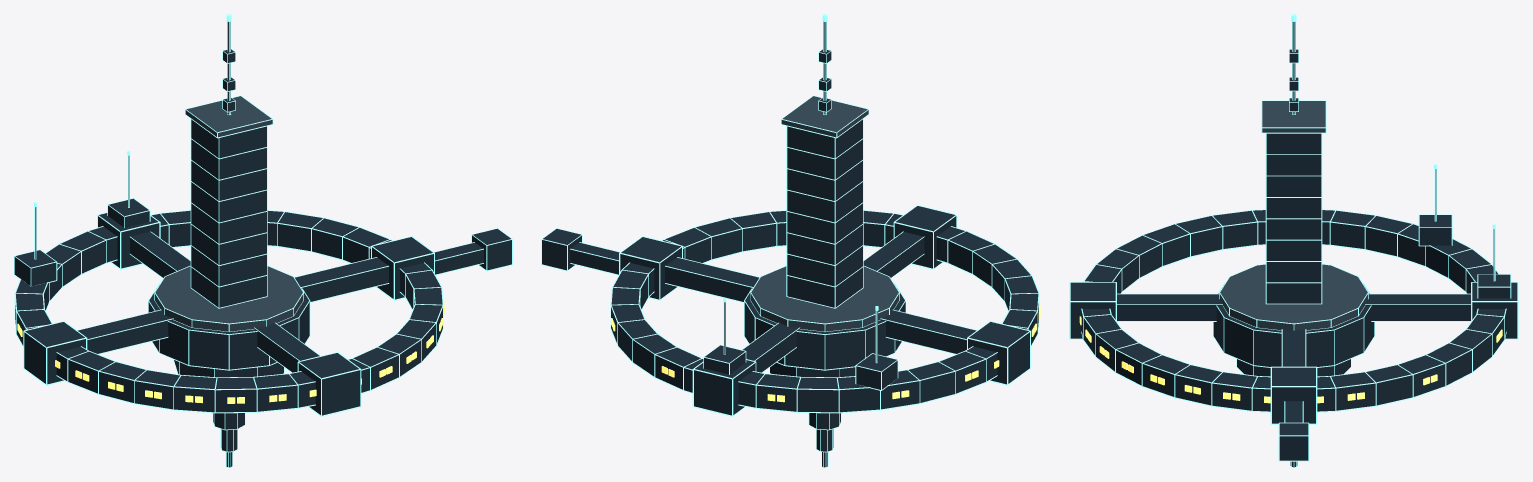
Rendered from blue_ring_station.glb.
The picture shows the model from 3 angles, left to right: view 1: azimuth 30°, elevation 25°; view 2: azimuth 150°, elevation 25°; view 3: azimuth 270°, elevation 25°; orthographic projection.
Parts seen in each view (by area): view 1: Blue station | segmented orbital ring, BlueRingStation_ROOT | blue physical edge accents, Blue station | upper hub deck, Blue station | octagonal hub, Blue station | ring junction.003, Blue station | radial spoke, Blue station | radial spoke.002, Blue station | ring junction.002, Blue station | tower roof, Blue station | ring junction, Blue station | tower floor.004, Blue station | radial spoke.001 (+14 smaller); view 2: Blue station | segmented orbital ring, BlueRingStation_ROOT | blue physical edge accents, Blue station | upper hub deck, Blue station | octagonal hub, Blue station | radial spoke, Blue station | radial spoke.002, Blue station | ring junction.002, Blue station | ring junction.001, Blue station | tower roof, Blue station | ring junction.003, Blue station | ring junction, Blue station | radial spoke.003 (+14 smaller); view 3: Blue station | segmented orbital ring, BlueRingStation_ROOT | blue physical edge accents, Blue station | upper hub deck, Blue station | octagonal hub, Blue station | radial spoke.001, Blue station | radial spoke.003, Blue station | ring junction, Blue station | tower roof, Blue station | ring junction.003, Blue station | tower floor.007, Blue station | tower floor, Blue station | tower floor.003 (+11 smaller).
Boxes of the visible parts, x1,y1,x2,y2 form: Blue station | segmented orbital ring: (15, 210, 442, 412); BlueRingStation_ROOT | blue physical edge accents: (14, 21, 512, 467); Blue station | upper hub deck: (155, 266, 303, 331); Blue station | octagonal hub: (148, 292, 309, 369); Blue station | ring junction.003: (298, 353, 360, 415); Blue station | radial spoke: (295, 257, 388, 301); Blue station | radial spoke.002: (78, 310, 173, 353); Blue station | ring junction.002: (24, 322, 85, 384); Blue station | tower roof: (185, 96, 272, 137); Blue station | ring junction: (372, 237, 433, 299); Blue station | tower floor.004: (191, 182, 266, 222); Blue station | radial spoke.001: (130, 232, 190, 277); Blue station | segmented orbital ring: (611, 210, 1038, 412); BlueRingStation_ROOT | blue physical edge accents: (541, 21, 1039, 467); Blue station | upper hub deck: (750, 266, 899, 331); Blue station | octagonal hub: (744, 292, 905, 369); Blue station | radial spoke: (665, 257, 758, 301); Blue station | radial spoke.002: (880, 310, 976, 353); Blue station | ring junction.002: (968, 322, 1029, 384); Blue station | ring junction.001: (694, 360, 755, 415); Blue station | tower roof: (781, 96, 868, 137); Blue station | ring junction.003: (894, 206, 956, 268); Blue station | ring junction: (620, 237, 681, 299); Blue station | radial spoke.003: (863, 232, 924, 277); Blue station | segmented orbital ring: (1081, 210, 1506, 411); BlueRingStation_ROOT | blue physical edge accents: (1069, 21, 1518, 467); Blue station | upper hub deck: (1219, 264, 1368, 330); Blue station | octagonal hub: (1213, 293, 1374, 366); Blue station | radial spoke.001: (1365, 294, 1470, 320); Blue station | radial spoke.003: (1117, 294, 1222, 320); Blue station | ring junction: (1272, 367, 1315, 423); Blue station | tower roof: (1262, 101, 1325, 132); Blue station | ring junction.003: (1070, 282, 1115, 338); Blue station | tower floor.007: (1266, 133, 1321, 154); Blue station | tower floor: (1266, 283, 1321, 303); Blue station | tower floor.003: (1266, 219, 1321, 239).
Bounding box in the file's own units: 13.16 × 12.05 × 10.87.
